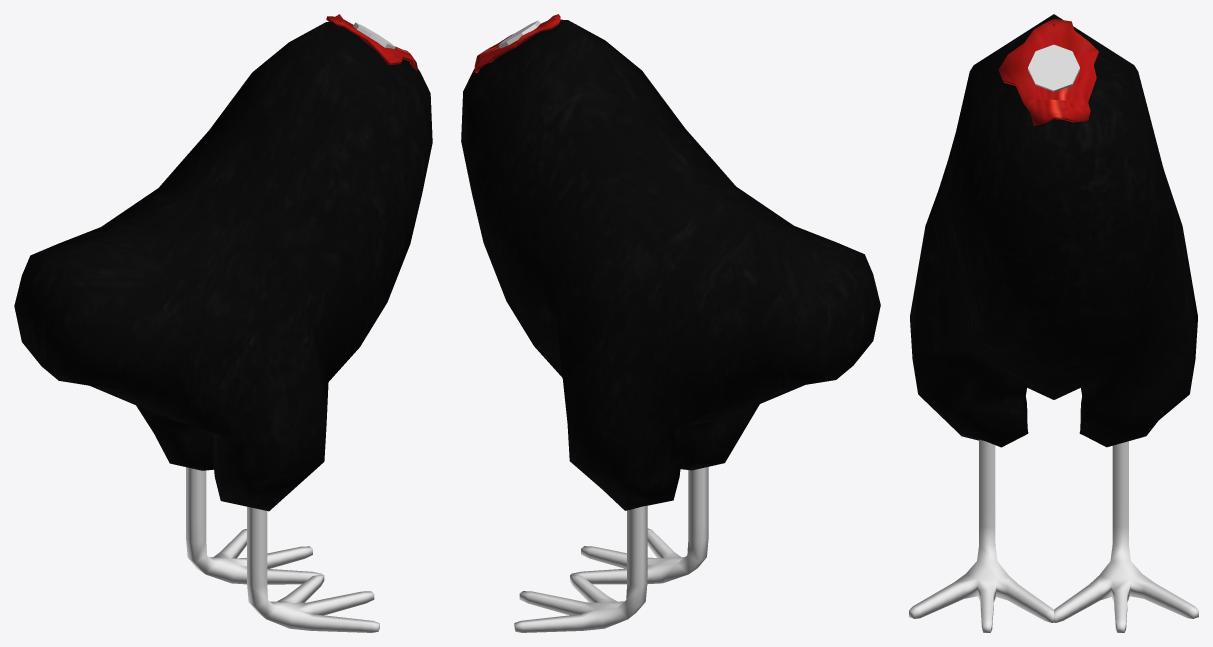
The model's file is ayam_itam.fbx.
The picture shows the model from 3 angles, left to right: view 1: azimuth 30°, elevation 25°; view 2: azimuth 150°, elevation 25°; view 3: azimuth 270°, elevation 25°; orthographic projection. The views are drawn at different scales.
Parts seen in each view (by area): view 1: Cube, Cube.001, Cube.002; view 2: Cube, Cube.001, Cube.002; view 3: Cube, Cube.001, Cube.002, Cylinder.
Boxes of the visible parts, bbox=[...] form: Cube: bbox=[14, 21, 432, 511]; Cube.001: bbox=[186, 467, 379, 632]; Cube.002: bbox=[326, 14, 417, 70]; Cube: bbox=[461, 19, 880, 510]; Cube.001: bbox=[514, 467, 708, 632]; Cube.002: bbox=[474, 14, 560, 73]; Cube: bbox=[910, 14, 1197, 447]; Cube.001: bbox=[909, 439, 1198, 632]; Cube.002: bbox=[998, 19, 1098, 125]; Cylinder: bbox=[1028, 44, 1079, 91].
Bounding box in the file's own units: 313 × 436 × 186.
Materials: 4 (2 with a texture image).
